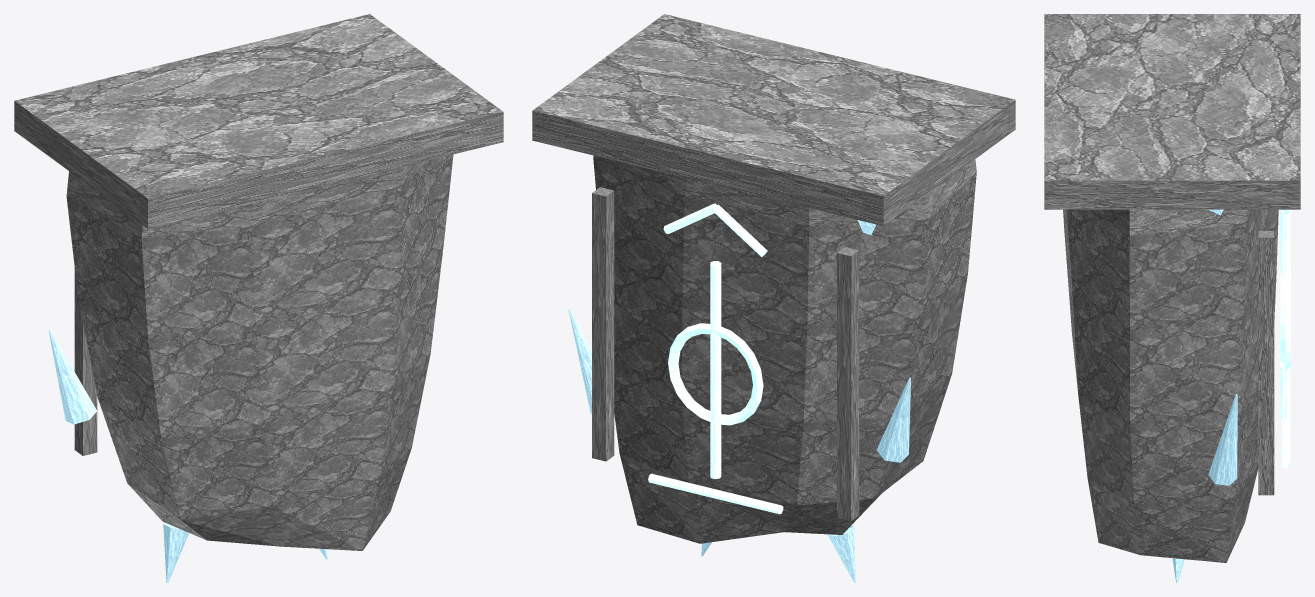
Rendered from underworld-deepstone-rime.glb.
3 views of the same model, side by side, from view 1: azimuth 30°, elevation 25°; view 2: azimuth 150°, elevation 25°; view 3: azimuth 270°, elevation 25° (orthographic). The views are drawn at different scales.
Visible parts, largest first — view 1: rime-stone, rime-detail-a; view 2: rime-stone, rime-rune, rime-detail-a; view 3: rime-stone, rime-rune, rime-detail-a.
Boxes of the visible parts, bbox=[...] form: rime-stone: bbox=[14, 14, 503, 550]; rime-detail-a: bbox=[48, 330, 327, 582]; rime-stone: bbox=[532, 14, 1015, 543]; rime-rune: bbox=[648, 203, 783, 514]; rime-detail-a: bbox=[568, 309, 910, 582]; rime-stone: bbox=[1044, 14, 1300, 562]; rime-rune: bbox=[1280, 209, 1290, 468]; rime-detail-a: bbox=[1172, 394, 1237, 582].
Size of the model in its own units: 0.86 by 1.09 by 0.56.
4 materials, 4 textured.
